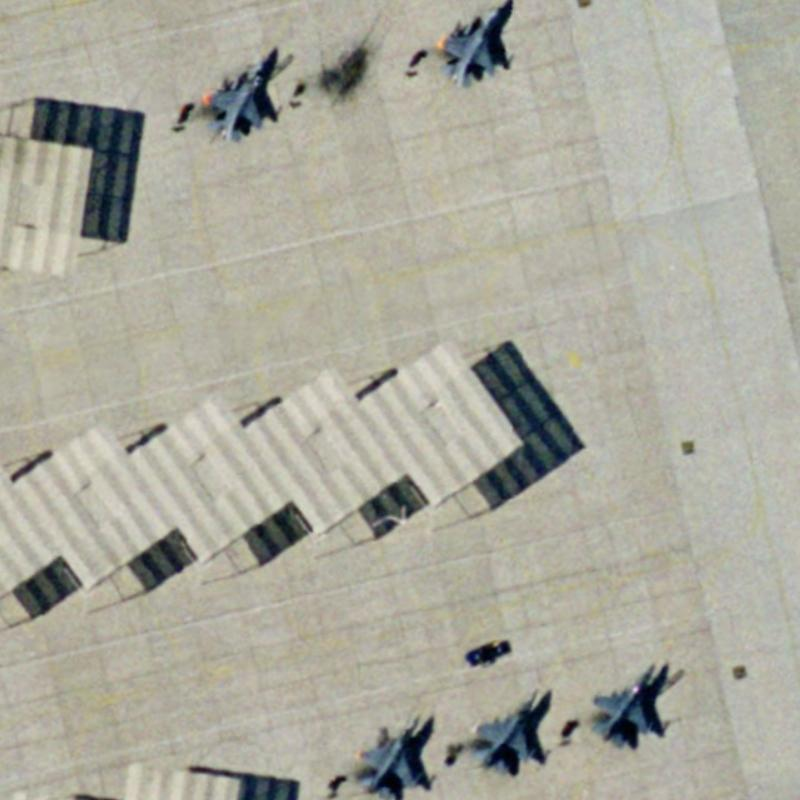A5: (465, 682, 553, 782), (198, 45, 281, 148), (347, 700, 431, 799), (583, 654, 662, 754), (424, 0, 510, 91)
